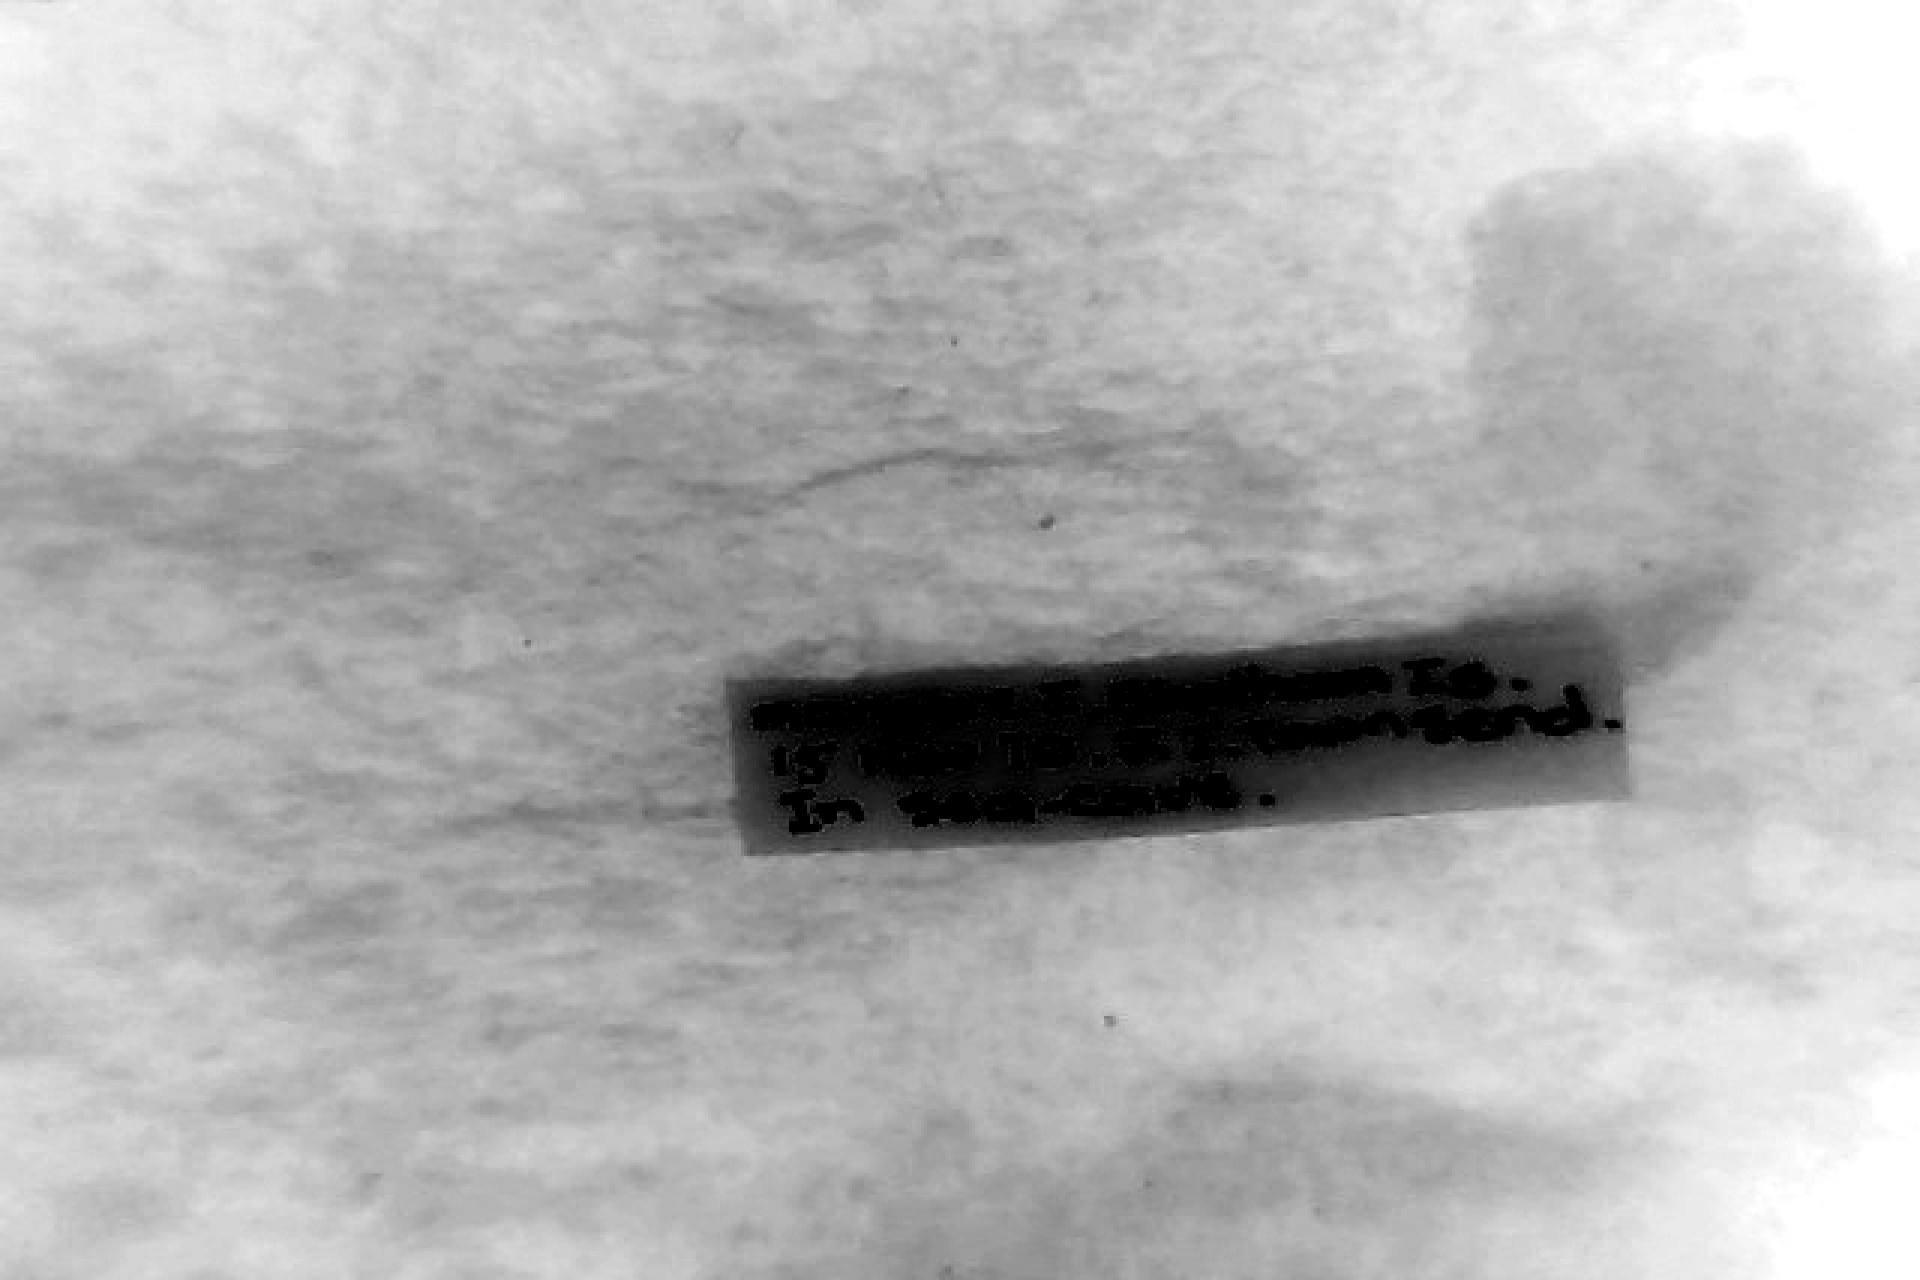hand_label: (737, 633, 1627, 853)
